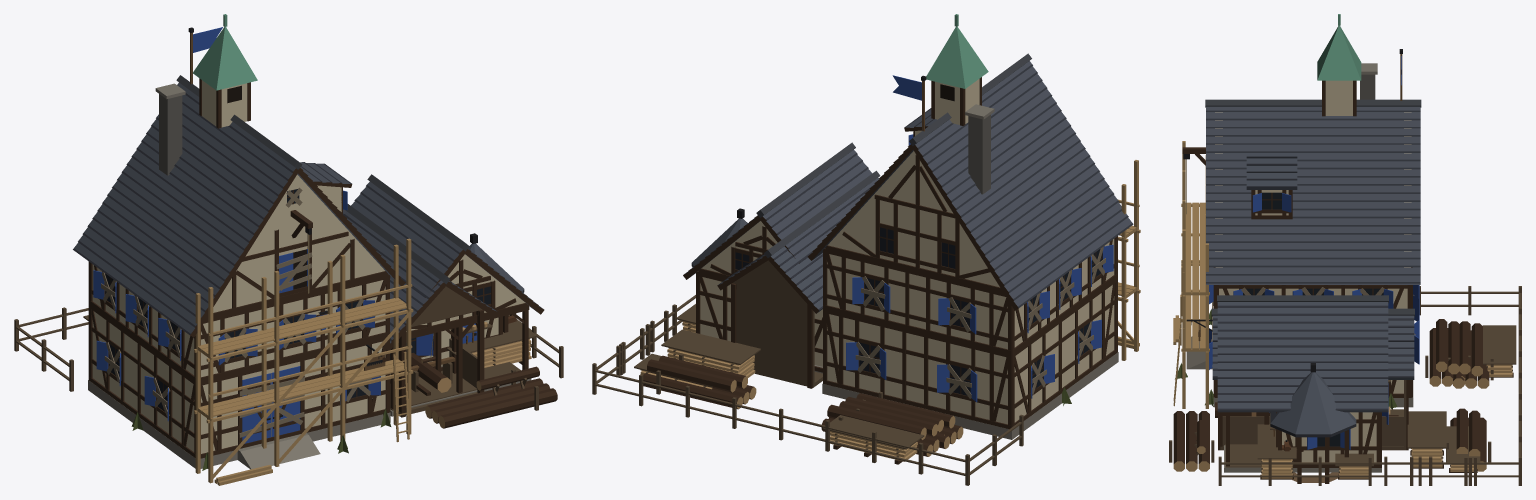
The model's file is tischler.glb.
The picture shows the model from 3 angles, left to right: view 1: azimuth 30°, elevation 25°; view 2: azimuth 150°, elevation 25°; view 3: azimuth 270°, elevation 25°; orthographic projection. The views are drawn at different scales.
Visible parts, largest first — view 1: Haus, Geruest, Stufe2, Stufe3, Stufe1, Leerstand, Fahne; view 2: Haus, Stufe3, Stufe2, Stufe1, Leerstand, Geruest, Fahne; view 3: Haus, Stufe2, Stufe3, Stufe1, Geruest, Leerstand.
Boxes of the visible parts, <box> form: Haus: <box>73,75,405,469</box>; Geruest: <box>194,238,413,485</box>; Stufe2: <box>300,162,544,416</box>; Stufe3: <box>83,14,557,428</box>; Stufe1: <box>14,307,563,395</box>; Leerstand: <box>101,187,391,470</box>; Fahne: <box>188,27,222,84</box>; Haus: <box>807,53,1133,439</box>; Stufe3: <box>597,14,988,464</box>; Stufe2: <box>596,108,944,456</box>; Stufe1: <box>592,295,1023,485</box>; Leerstand: <box>855,246,1105,405</box>; Geruest: <box>1118,160,1140,360</box>; Fahne: <box>892,75,926,131</box>; Haus: <box>1182,63,1421,407</box>; Stufe2: <box>1217,153,1516,485</box>; Stufe3: <box>1169,14,1518,485</box>; Stufe1: <box>1194,286,1521,485</box>; Geruest: <box>1173,141,1209,408</box>; Leerstand: <box>1175,287,1415,409</box>.
Size of the model in its own units: 15.82 by 14.93 by 13.64.
